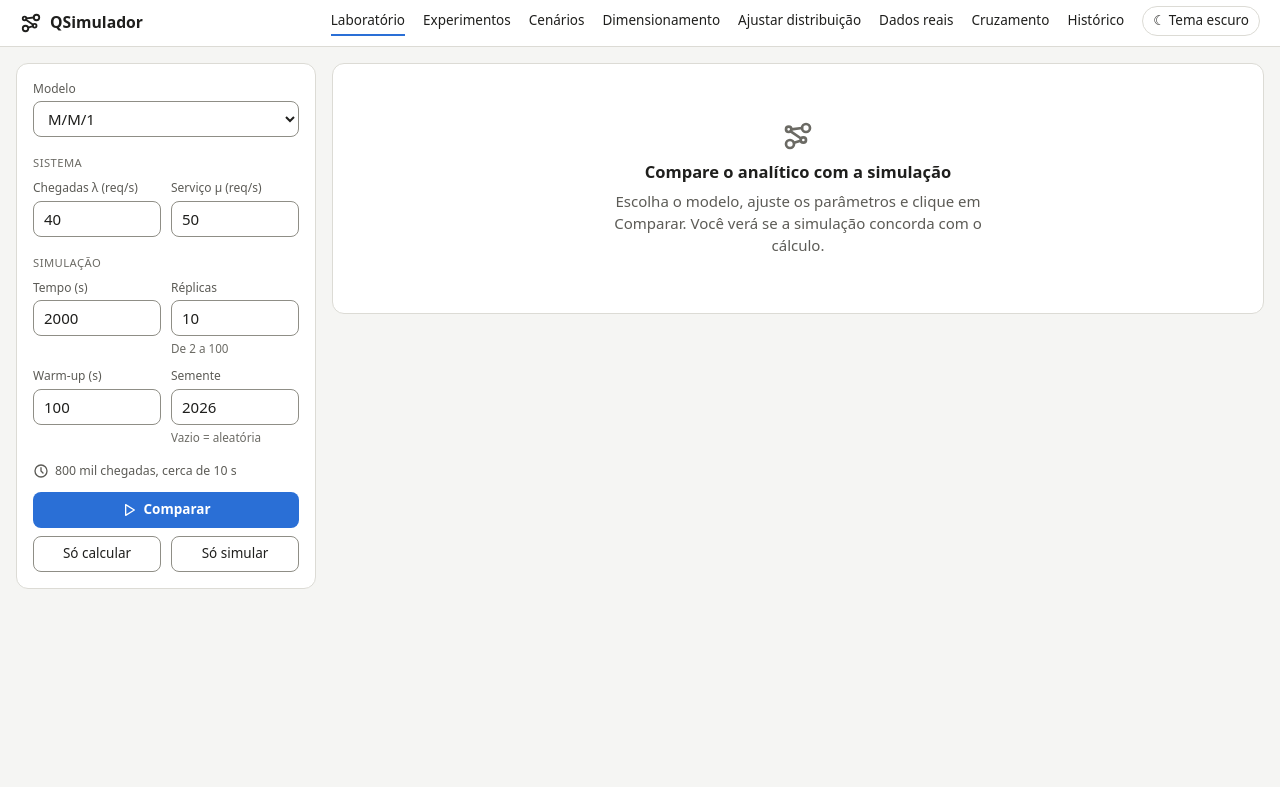
Test: experimentos do M/G/1 › troca comparar servidores por comparar distribuições
Select "M/G/1" in the dropdown labelled "Modelo". click: (166, 119)
box: [33,101,299,137]
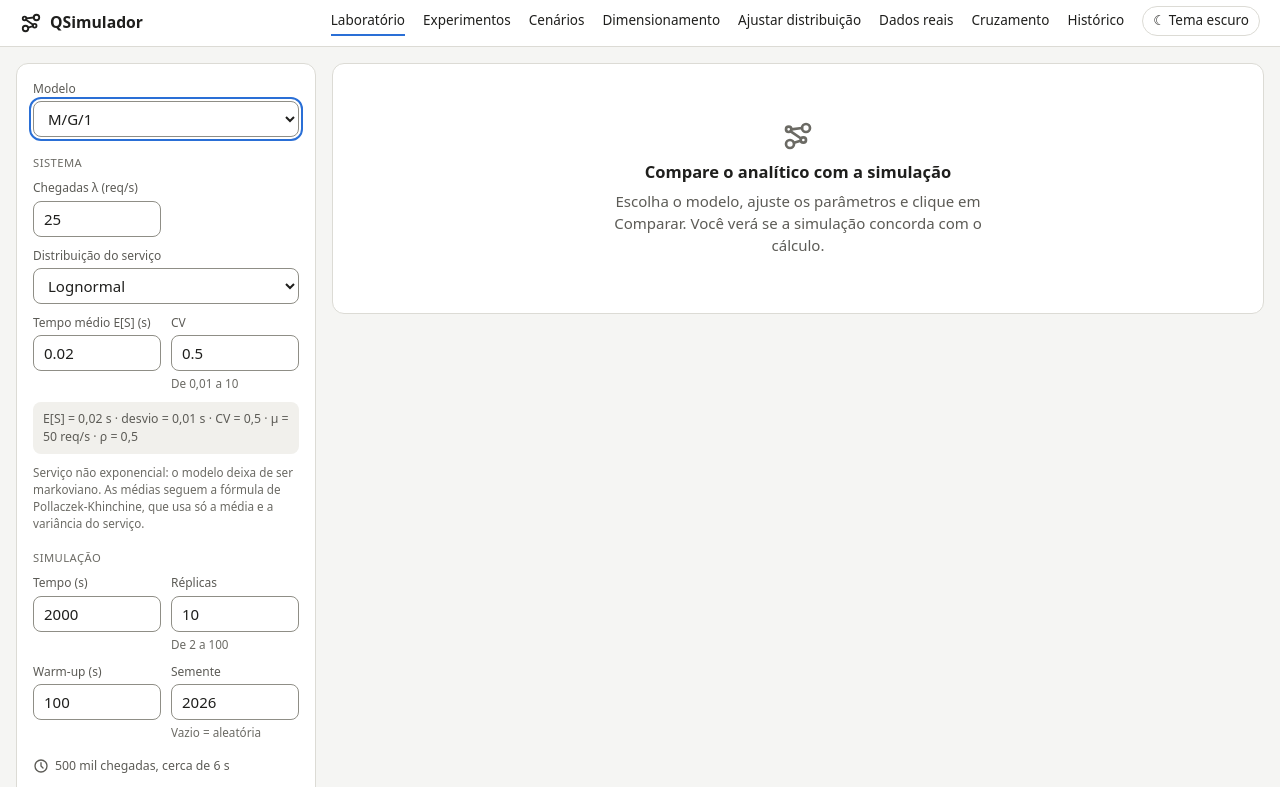
Click the button "Experimentos". click: (467, 23)
box: [423,10,511,36]
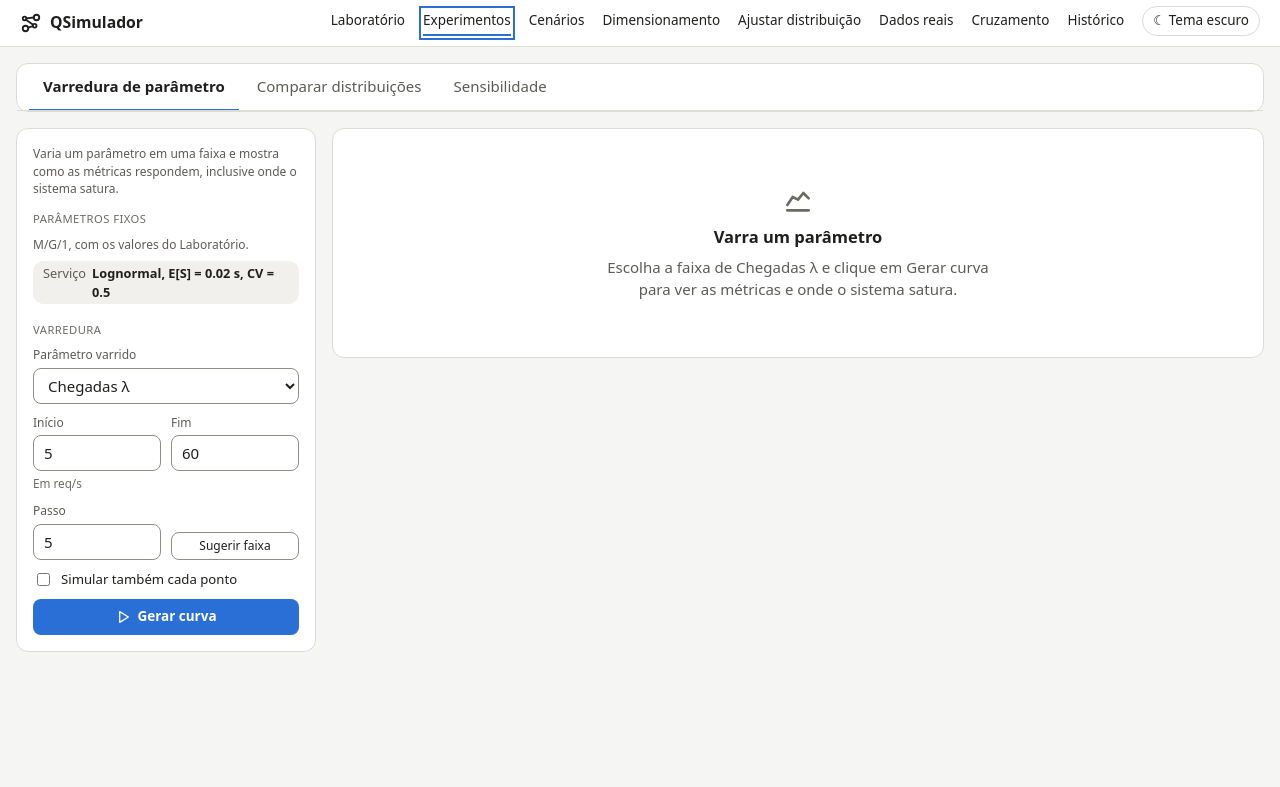
Expected: the tabs read "Varredura de parâmetro", "Comparar distribuições", "Sensibilidade", in this order, [29,64,239,111]; [243,64,436,111]; [440,64,561,111]
